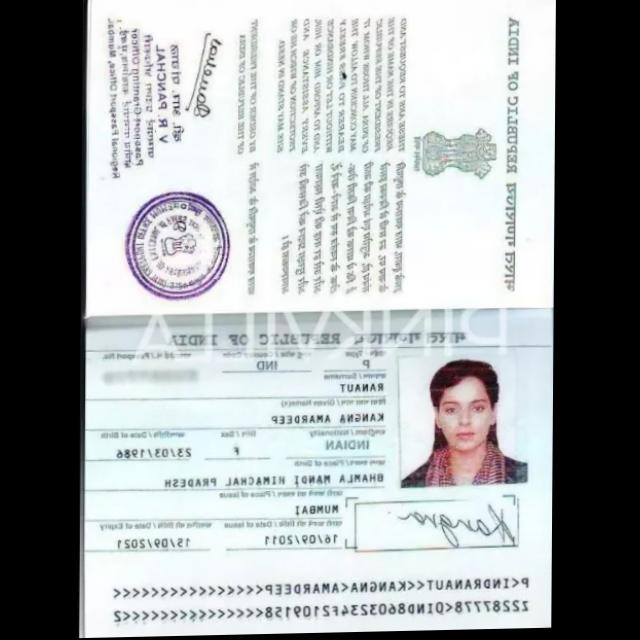passport: (80, 302, 555, 639)
